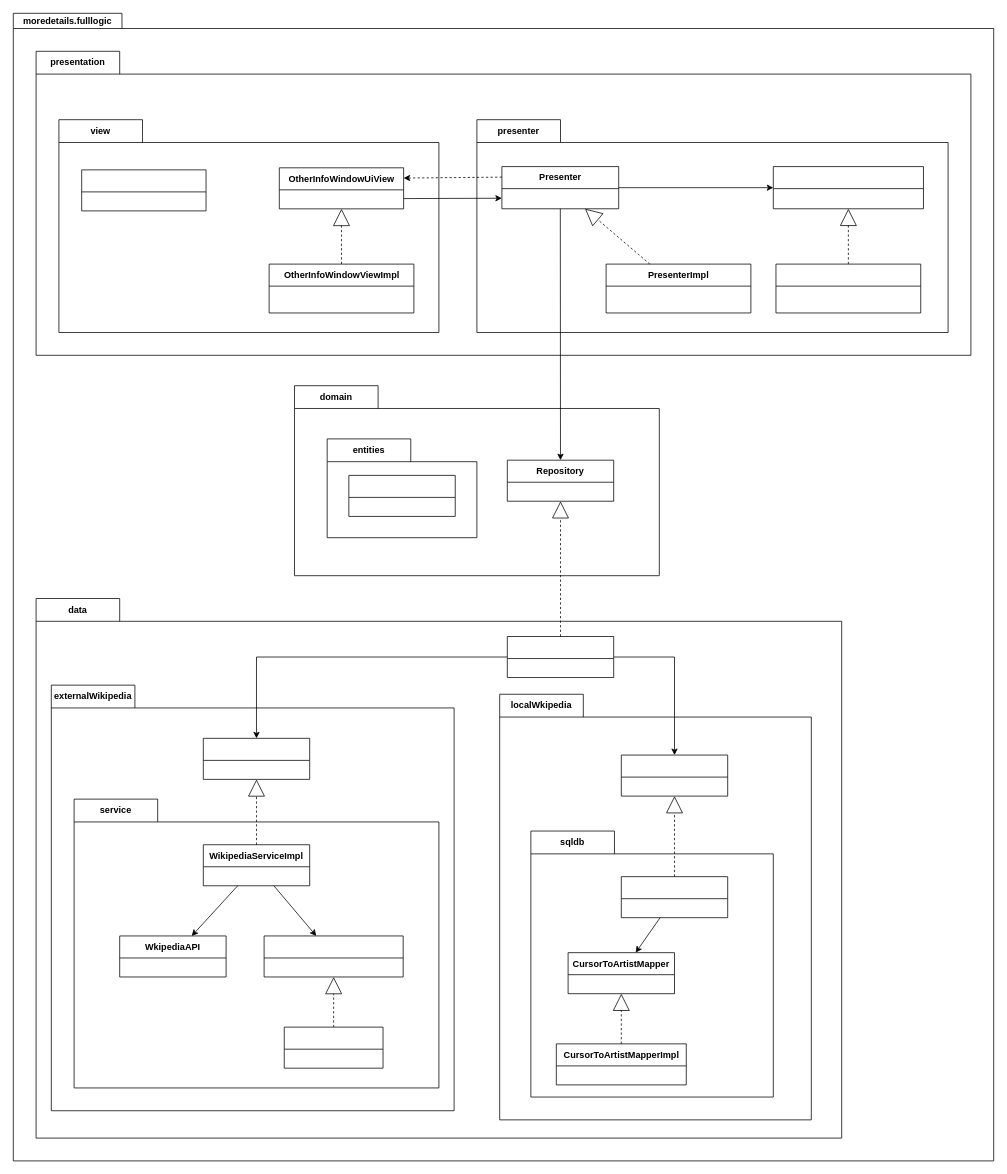
Image size: 1007x1174. Some labels were removed from this diagram. The shapes that lost their labels are listed below. From the top down, each one's centre as x and y in pixels, then its label:
At (143,190): "OtherInfoWindowUiState".
At (848,187): "ArtistDescriptionFormatter".
At (848,288): "ArtistDescriptionFormatterHtml".
At (401,495): "WikipediaArtist".
At (560,657): "RepositoryImpl".
At (256,758): "WikipediaService".
At (674,775): "ArtistLocalStorage".
At (674,897): "ArtistLocalStorageImpl".
At (333,956): "WikipediaToArtistResolver".
At (333,1047): "JsonArtistResolver".
